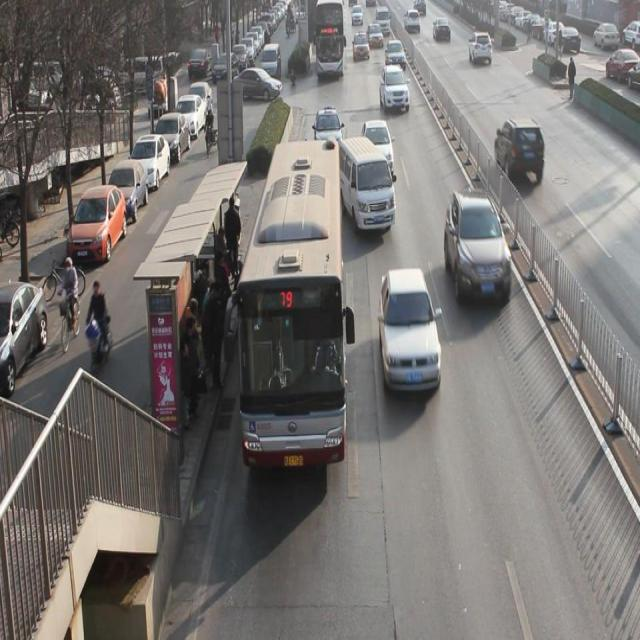car: (444, 189, 514, 309), (376, 270, 443, 395), (495, 122, 544, 186), (362, 122, 397, 180), (380, 66, 409, 114), (316, 108, 341, 153), (468, 32, 493, 65), (386, 42, 407, 71), (366, 22, 384, 51), (432, 18, 451, 41), (352, 33, 367, 56), (405, 14, 421, 33)
truck: (337, 143, 395, 233)
van: (236, 138, 344, 468), (314, 1, 342, 72)
